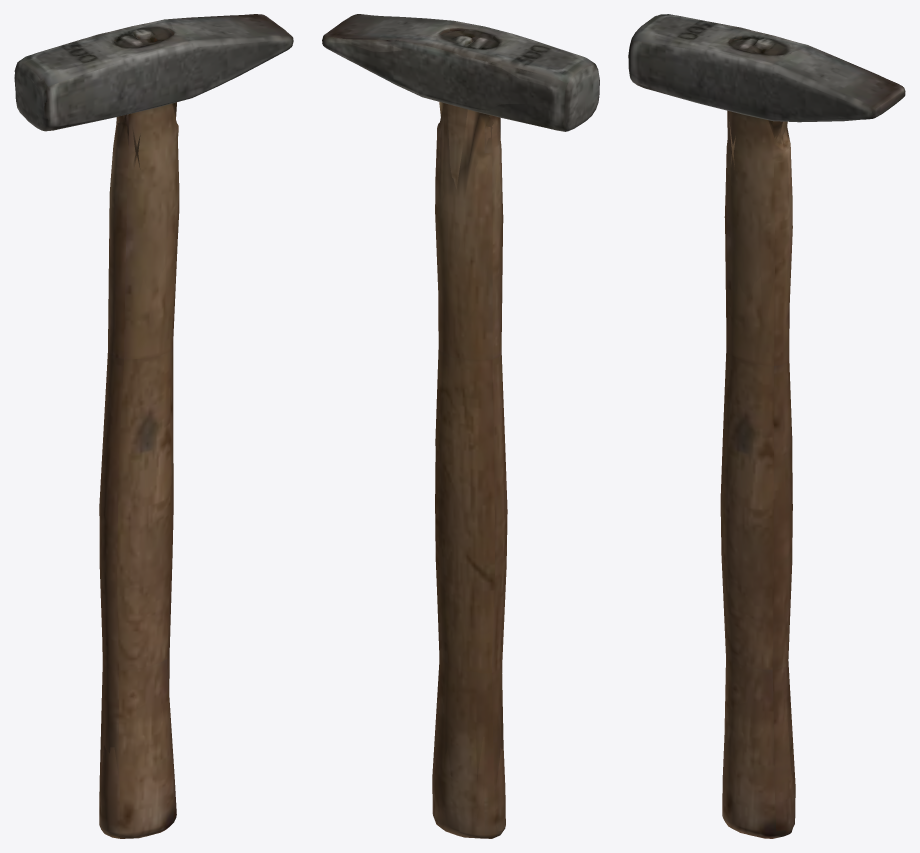
Rendered from ph-cross_pein_hammer.glb.
3 views of the same model, side by side, from view 1: azimuth 30°, elevation 25°; view 2: azimuth 150°, elevation 25°; view 3: azimuth 330°, elevation 25° (orthographic).
Visible parts, largest first — view 1: cross_pein_hammer (×2); view 2: cross_pein_hammer (×2); view 3: cross_pein_hammer (×2).
Boxes of the visible parts, x1,y1,x2,y2 form: cross_pein_hammer (×2): [14, 14, 293, 838]; cross_pein_hammer (×2): [322, 14, 599, 838]; cross_pein_hammer (×2): [628, 14, 905, 838].
Size of the model in its own units: 0.1089 by 0.33 by 0.0267.
1 material, 1 textured.
